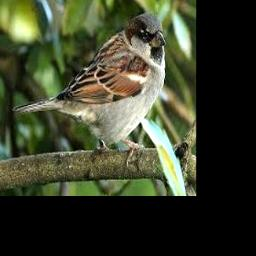Sparrow: (13, 12, 165, 164)
